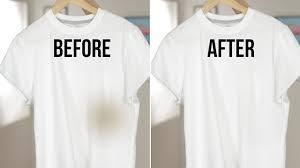mustard: (85, 94, 124, 136)
